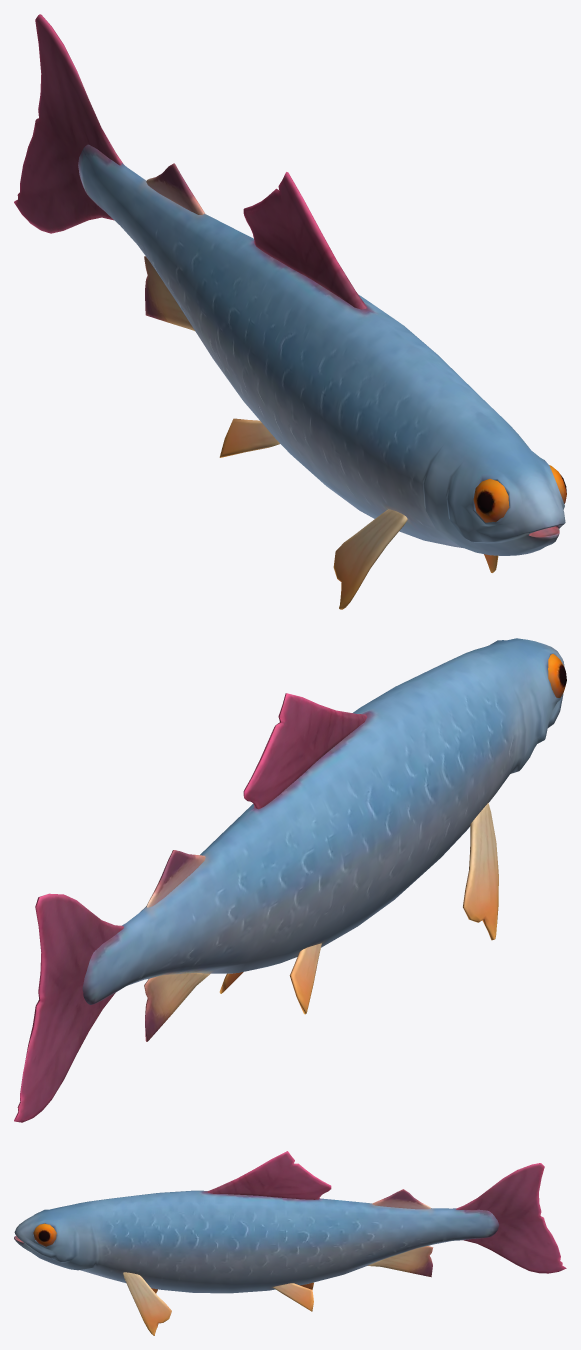
3 views of the same model, one above another, from view 1: azimuth 30°, elevation 25°; view 2: azimuth 150°, elevation 25°; view 3: azimuth 270°, elevation 25° (orthographic). The views are drawn at different scales.
Visible parts, largest first — view 1: SM_Fish_Herring_01_LOD0; view 2: SM_Fish_Herring_01_LOD0; view 3: SM_Fish_Herring_01_LOD0.
Part boxes in pixels (x1,y1,x2,y2): SM_Fish_Herring_01_LOD0: [14, 14, 566, 609]; SM_Fish_Herring_01_LOD0: [14, 638, 566, 1122]; SM_Fish_Herring_01_LOD0: [14, 1151, 566, 1335].
Size of the model in its own units: 0.0819 by 0.1623 by 0.4896.
Materials: 1 (1 with a texture image).
